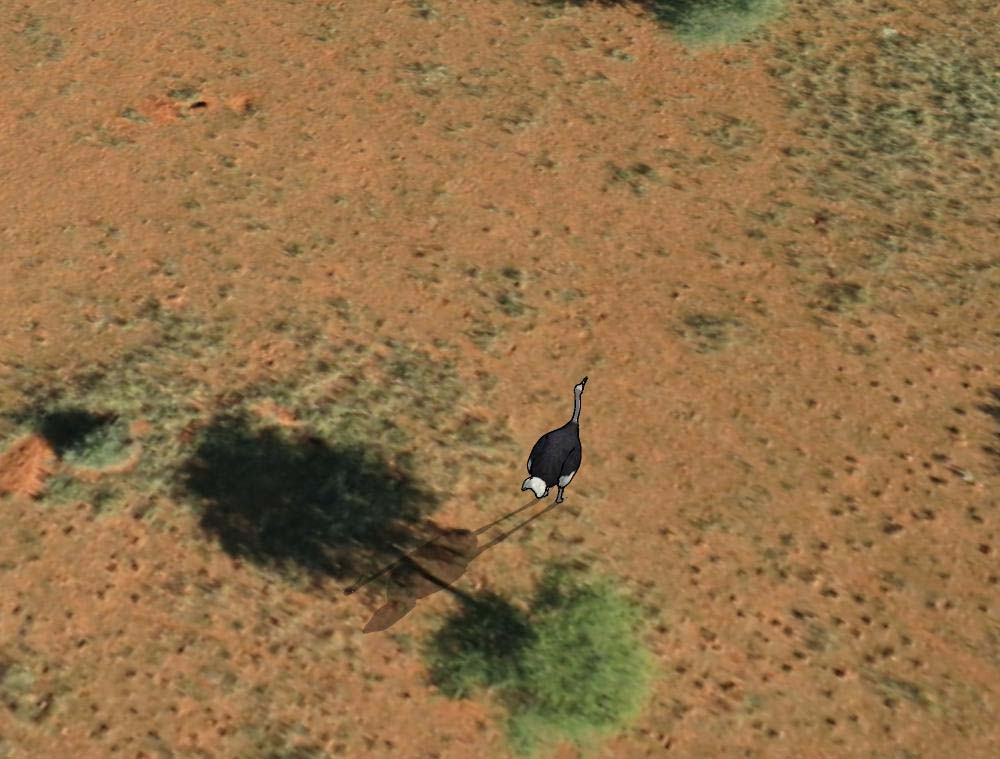ostrich: (521, 374, 599, 504)
